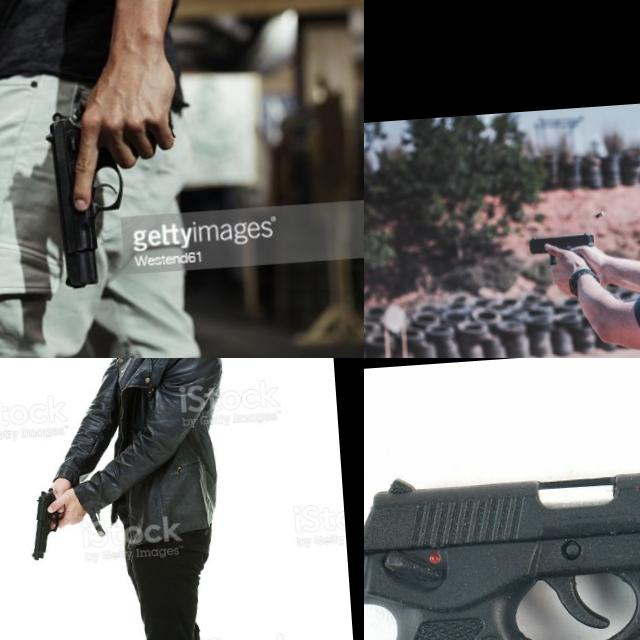handgun: (364, 440, 640, 640), (40, 100, 132, 290), (526, 227, 600, 275), (26, 485, 70, 563)
